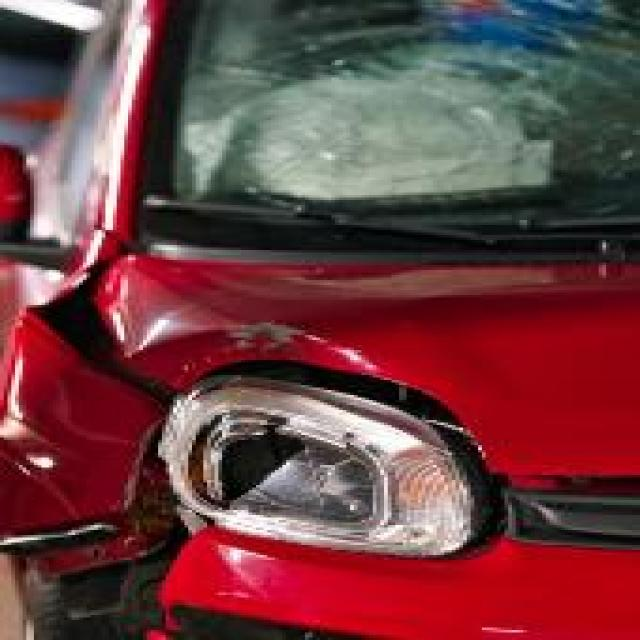Bonnet: (139, 268, 489, 392)
Fender: (8, 302, 166, 542)
Light: (184, 382, 471, 550)
Windshield: (166, 8, 640, 218)
